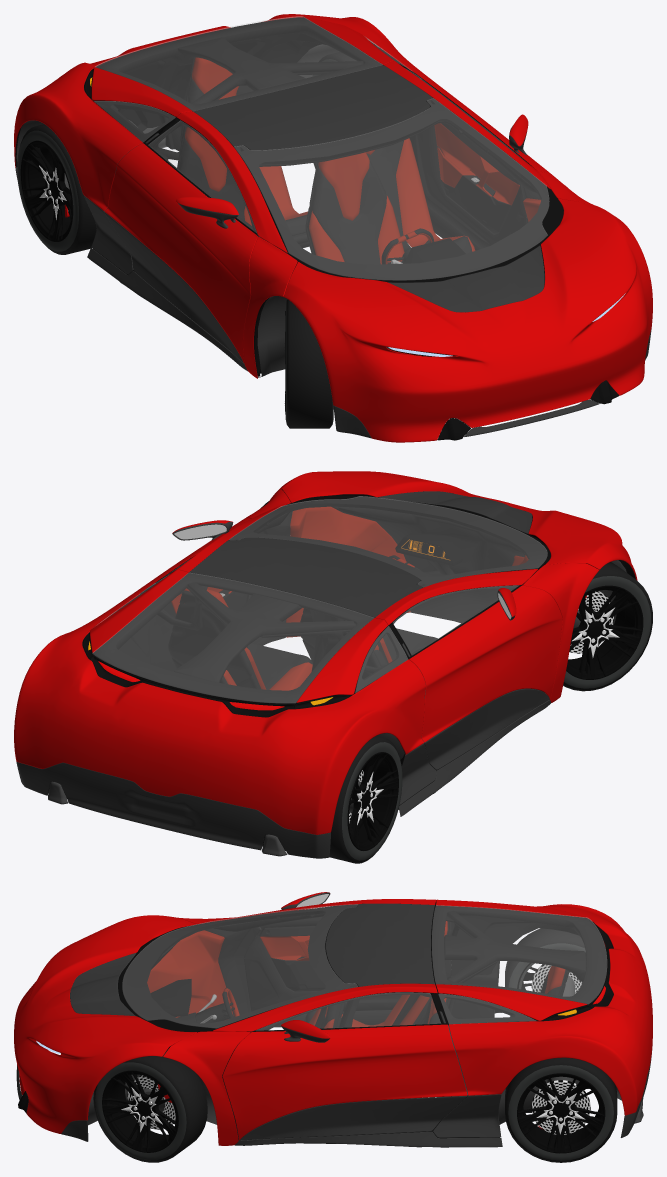
File: ev-concept.glb
The picture shows the model from 3 angles, top to bottom: view 1: azimuth 30°, elevation 25°; view 2: azimuth 150°, elevation 25°; view 3: azimuth 270°, elevation 25°; orthographic projection. The views are drawn at different scales.
Visible parts, largest first — view 1: BodyHood_geo, BodyWindshield_geo, BodyRearwindow_geo, BodyDoorRColor1_geo, BodyRearPanelsColor1_geo, BodyWindshieldGasket_geo, BodyRoofPanel_geo, InteriorSeatsColor1_geo, InteriorSeatsColor2_geo, mesh_geo (×2), BodyPillars_geo, InteriorPillar_geo (+18 smaller); view 2: BodyRearPanelsColor1_geo, BodyRearwindow_geo, BodyWindshield_geo, BodyPanelsColor2_geo, BodyDoorRColor1_geo, BodyRoofPanel_geo, BodyHood_geo, InteriorRearHatch_geo, BodyPillars_geo, InteriorPillar_geo, BodyWindshieldGasket_geo, InteriorDashMid_geo (+18 smaller); view 3: BodyWindshield_geo, BodyRearPanelsColor1_geo, BodyDoorLColor1_geo, BodyHood_geo, BodyRearwindow_geo, mesh_geo (×3), BodyRoofPanel_geo, BodyPillars_geo, BodyWindshieldGasket_geo, BodyDoorLColor2_geo, BodyPanelsColor2_geo, InteriorRearHatch_geo (+23 smaller).
Boxes of the visible parts, bbox=[...] form: BodyHood_geo: bbox=[283, 198, 652, 442]; BodyWindshield_geo: bbox=[234, 98, 549, 280]; BodyRearwindow_geo: bbox=[95, 16, 382, 110]; BodyDoorRColor1_geo: bbox=[104, 143, 257, 362]; BodyRearPanelsColor1_geo: bbox=[14, 14, 428, 210]; BodyWindshieldGasket_geo: bbox=[234, 99, 563, 282]; BodyRoofPanel_geo: bbox=[193, 65, 432, 150]; InteriorSeatsColor1_geo: bbox=[185, 57, 475, 264]; InteriorSeatsColor2_geo: bbox=[180, 78, 472, 264]; mesh_geo (×2): bbox=[17, 124, 333, 428]; BodyPillars_geo: bbox=[176, 61, 598, 378]; InteriorPillar_geo: bbox=[158, 37, 434, 168]; BodyRearPanelsColor1_geo: bbox=[14, 569, 425, 834]; BodyRearwindow_geo: bbox=[92, 573, 373, 703]; BodyWindshield_geo: bbox=[229, 496, 547, 587]; BodyPanelsColor2_geo: bbox=[16, 700, 550, 858]; BodyDoorRColor1_geo: bbox=[409, 585, 562, 742]; BodyRoofPanel_geo: bbox=[189, 537, 422, 617]; BodyHood_geo: bbox=[279, 471, 637, 580]; InteriorRearHatch_geo: bbox=[93, 573, 386, 707]; BodyPillars_geo: bbox=[175, 489, 599, 702]; InteriorPillar_geo: bbox=[174, 574, 417, 682]; BodyWindshieldGasket_geo: bbox=[230, 495, 550, 587]; InteriorDashMid_geo: bbox=[331, 503, 528, 623]; BodyWindshield_geo: bbox=[122, 904, 357, 1028]; BodyRearPanelsColor1_geo: bbox=[436, 899, 652, 1115]; BodyDoorLColor1_geo: bbox=[222, 1024, 467, 1139]; BodyHood_geo: bbox=[14, 915, 196, 1133]; BodyRearwindow_geo: bbox=[432, 905, 606, 1003]; mesh_geo (×3): bbox=[93, 928, 617, 1162]; BodyRoofPanel_geo: bbox=[326, 903, 434, 986]; BodyPillars_geo: bbox=[163, 899, 437, 1145]; BodyWindshieldGasket_geo: bbox=[118, 905, 357, 1032]; BodyDoorLColor2_geo: bbox=[240, 1096, 467, 1140]; BodyPanelsColor2_geo: bbox=[16, 1012, 652, 1147]; InteriorRearHatch_geo: bbox=[431, 905, 606, 1020].
Size of the model in its own units: 2.54 by 1.15 by 4.36.
Materials: 21 (2 with a texture image).
